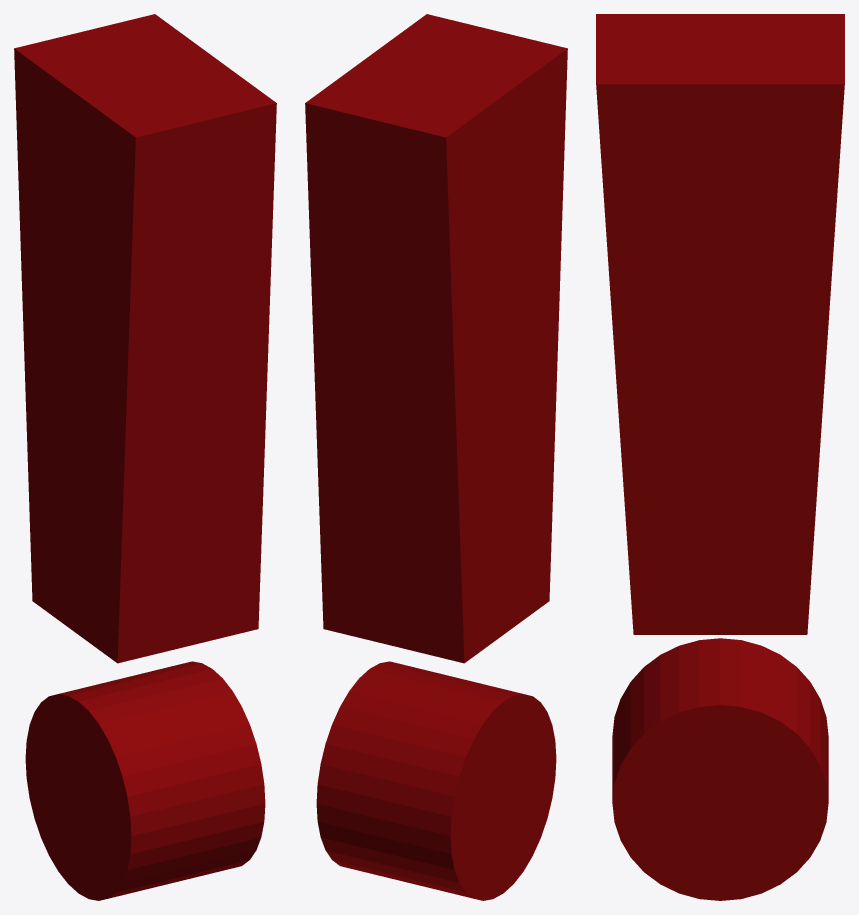
File: Exclamation mark.fbx
The picture shows the model from 3 angles, left to right: view 1: azimuth 30°, elevation 25°; view 2: azimuth 150°, elevation 25°; view 3: azimuth 270°, elevation 25°; orthographic projection. The views are drawn at different scales.
Visible parts, largest first — view 1: Cube, Cylinder; view 2: Cube, Cylinder; view 3: Cube, Cylinder.
Part boxes in pixels (x1=…): Cube: x1=14, y1=14, x2=276, y2=663; Cylinder: x1=25, y1=661, x2=265, y2=900; Cube: x1=305, y1=14, x2=567, y2=663; Cylinder: x1=316, y1=661, x2=556, y2=900; Cube: x1=596, y1=14, x2=844, y2=634; Cylinder: x1=612, y1=638, x2=828, y2=900.
Size of the model in its own units: 200 by 1086 by 299.
